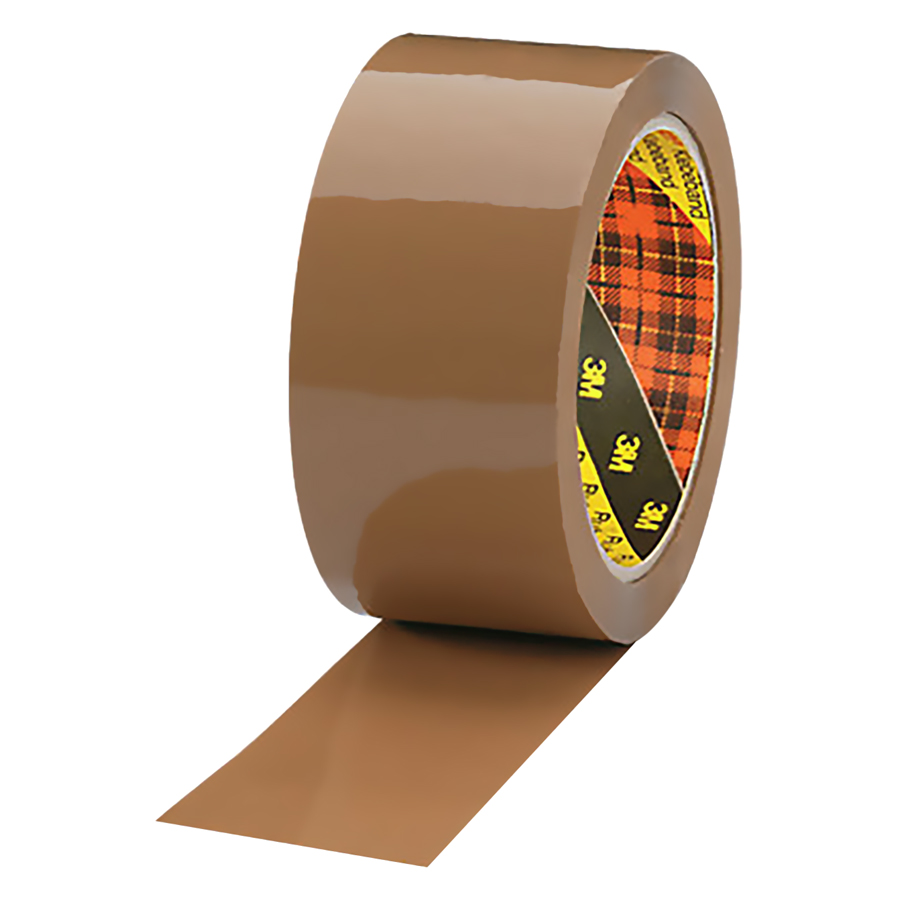3M: (609, 416, 640, 487), (631, 493, 674, 536), (579, 344, 607, 407)
